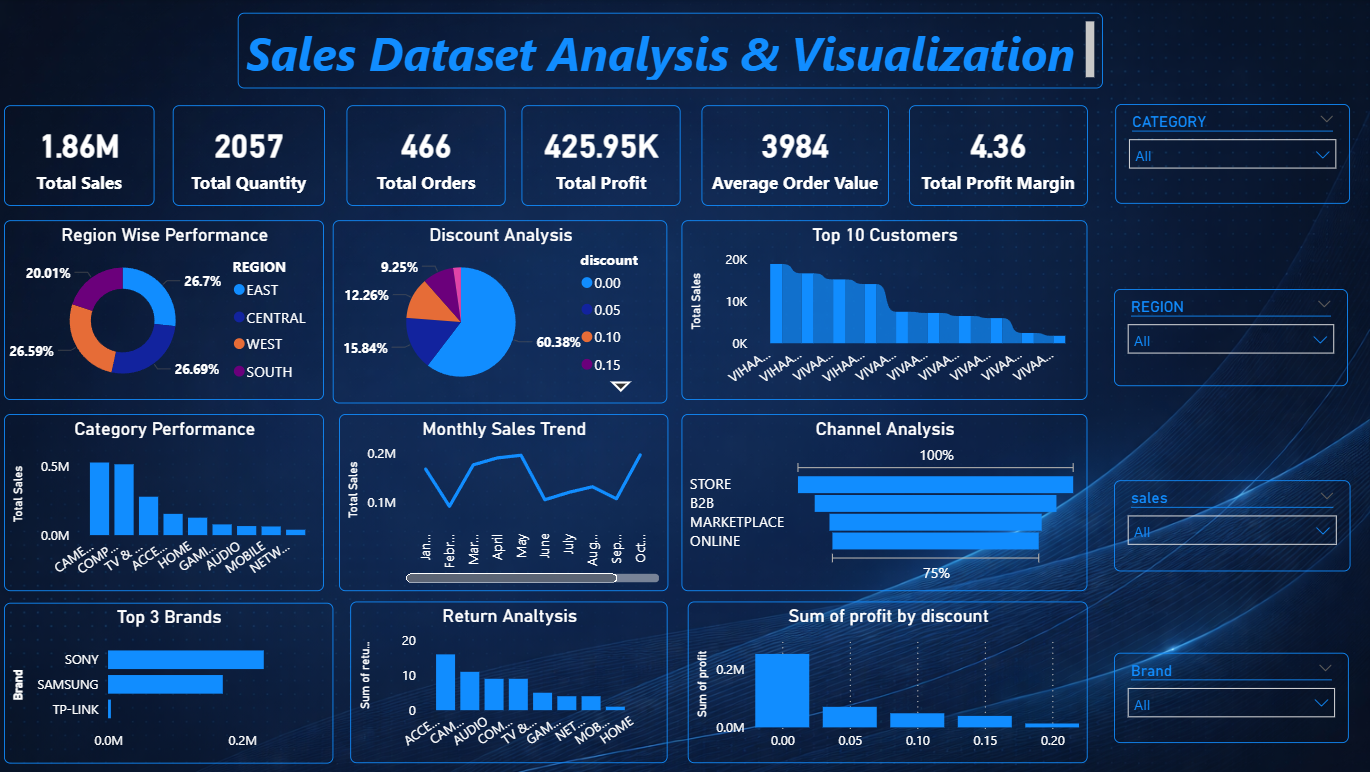

The page's visual inventory and layout, read from the dashboard file:
{"tool":"powerbi","page":{"name":"Page 1","canvas":[1280,720],"ordinal":0},"visuals":[{"type":"card","fields":{"Values":["fact_sales.Total Sales"]},"box":[9.6,98.8,140,93.3],"z":0},{"type":"card","fields":{"Values":["fact_sales.Total Quantity"]},"box":[166,98.8,141.3,93.3],"z":1000},{"type":"card","fields":{"Values":["fact_sales.Total Profit Margin"]},"box":[491.3,98.8,148.2,93.3],"z":2000},{"type":"card","fields":{"Values":["fact_sales.Total Profit Margin"]},"box":[850.8,98.8,166,93.3],"z":3000},{"type":"card","fields":{"Values":["fact_sales.Total Orders"]},"box":[328,98.8,148.2,93.3],"z":4000},{"type":"lineChart","title":"Monthly Sales Trend","fields":{"Category":["fact_sales.month.Variation.Date Hierarchy.Month"],"Y":["fact_sales.Total Sales"]},"box":[321.1,385.6,306,164.7],"z":5000},{"type":"donutChart","title":"Region Wise Performance","fields":{"Category":["fact_sales.REGION"],"Y":["fact_sales.Total Sales"]},"box":[9.6,205.8,297.8,167.4],"z":6000},{"type":"clusteredColumnChart","title":"Category Performance","fields":{"Category":["fact_sales.CATEGORY"],"Y":["fact_sales.Total Sales"]},"box":[9.6,385.6,297.8,164.7],"z":7000},{"type":"funnel","title":"Channel Analysis","fields":{"Category":["fact_sales.CHANNEL"],"Y":["Sum(fact_sales.sales)"]},"box":[639.5,385.6,377.4,164.7],"z":8000},{"type":"ribbonChart","title":"Top 10 Customers","fields":{"Category":["fact_sales.CUSTOMER_NAME"],"Y":["fact_sales.Total Sales"]},"box":[639.5,205.8,377.4,167.4],"z":9000},{"type":"barChart","title":"Top 3 Brands","fields":{"Category":["fact_sales.Brand"],"Y":["Sum(fact_sales.sales)"]},"box":[9.6,561.2,306,149.6],"z":10000},{"type":"columnChart","title":"Return Analtysis","fields":{"Category":["fact_sales.CATEGORY"],"Y":["Sum(fact_sales.returned)"]},"box":[331.4,560.8,295.4,150.1],"z":11000},{"type":"pieChart","title":"Discount Analysis","fields":{"Category":["fact_sales.discount"],"Y":["Sum(fact_sales.Profit Margin)"]},"box":[315.6,205.8,311.5,170.2],"z":12000},{"type":"clusteredColumnChart","fields":{"Category":["fact_sales.discount"],"Y":["Sum(fact_sales.profit)"]},"box":[644.8,560.8,372.2,150.1],"z":13000},{"type":"card","fields":{"Values":["fact_sales.AVG Order value"]},"box":[658.7,98.8,174.3,93.3],"z":14000},{"type":"textbox","box":[226.4,13.1,804.9,70.7],"z":15000},{"type":"slicer","fields":{"Values":["fact_sales.CATEGORY"]},"box":[1043.1,98.2,218.6,92.9],"z":16000},{"type":"slicer","fields":{"Values":["fact_sales.REGION"]},"box":[1041.8,269.6,217.3,90.3],"z":17000},{"type":"slicer","fields":{"Values":["fact_sales.sales"]},"box":[1041.8,447.6,219.9,85.1],"z":18000},{"type":"slicer","fields":{"Values":["fact_sales.Brand"]},"box":[1041.8,608.6,218.6,83.8],"z":19000}]}

Visuals, with their boxes in screenshot pixels (x1, y1, x2, y2), scaled from the page's 1280x720 canvas onto the 1370x772 screenshot:
card - fact_sales.Total Sales: box=[10, 106, 160, 206]
card - fact_sales.Total Quantity: box=[178, 106, 329, 206]
card - fact_sales.Total Profit Margin: box=[526, 106, 684, 206]
card - fact_sales.Total Profit Margin: box=[911, 106, 1088, 206]
card - fact_sales.Total Orders: box=[351, 106, 510, 206]
"Monthly Sales Trend" lineChart: box=[344, 413, 671, 590]
"Region Wise Performance" donutChart: box=[10, 221, 329, 400]
"Category Performance" clusteredColumnChart: box=[10, 413, 329, 590]
"Channel Analysis" funnel: box=[684, 413, 1088, 590]
"Top 10 Customers" ribbonChart: box=[684, 221, 1088, 400]
"Top 3 Brands" barChart: box=[10, 602, 338, 762]
"Return Analtysis" columnChart: box=[355, 601, 671, 762]
"Discount Analysis" pieChart: box=[338, 221, 671, 403]
clusteredColumnChart - fact_sales.discount x Sum(fact_sales.profit): box=[690, 601, 1089, 762]
card - fact_sales.AVG Order value: box=[705, 106, 892, 206]
textbox: box=[242, 14, 1104, 90]
slicer - fact_sales.CATEGORY: box=[1116, 105, 1350, 205]
slicer - fact_sales.REGION: box=[1115, 289, 1348, 386]
slicer - fact_sales.sales: box=[1115, 480, 1350, 571]
slicer - fact_sales.Brand: box=[1115, 653, 1349, 742]
